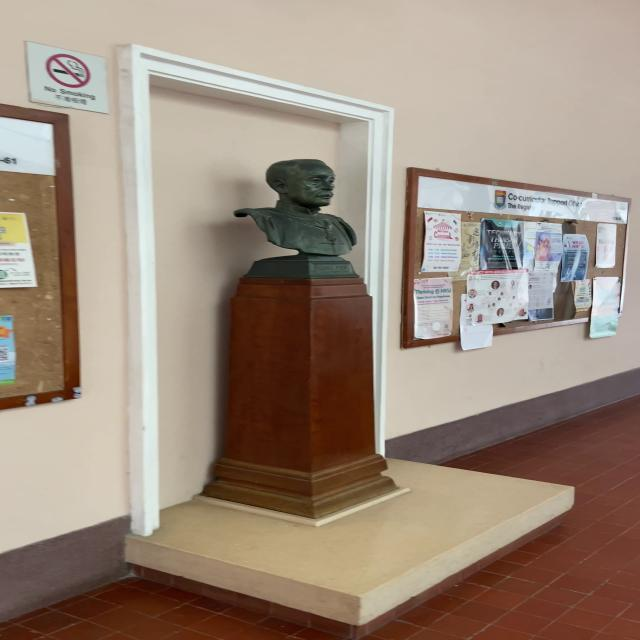statues: (230, 150, 364, 285)
